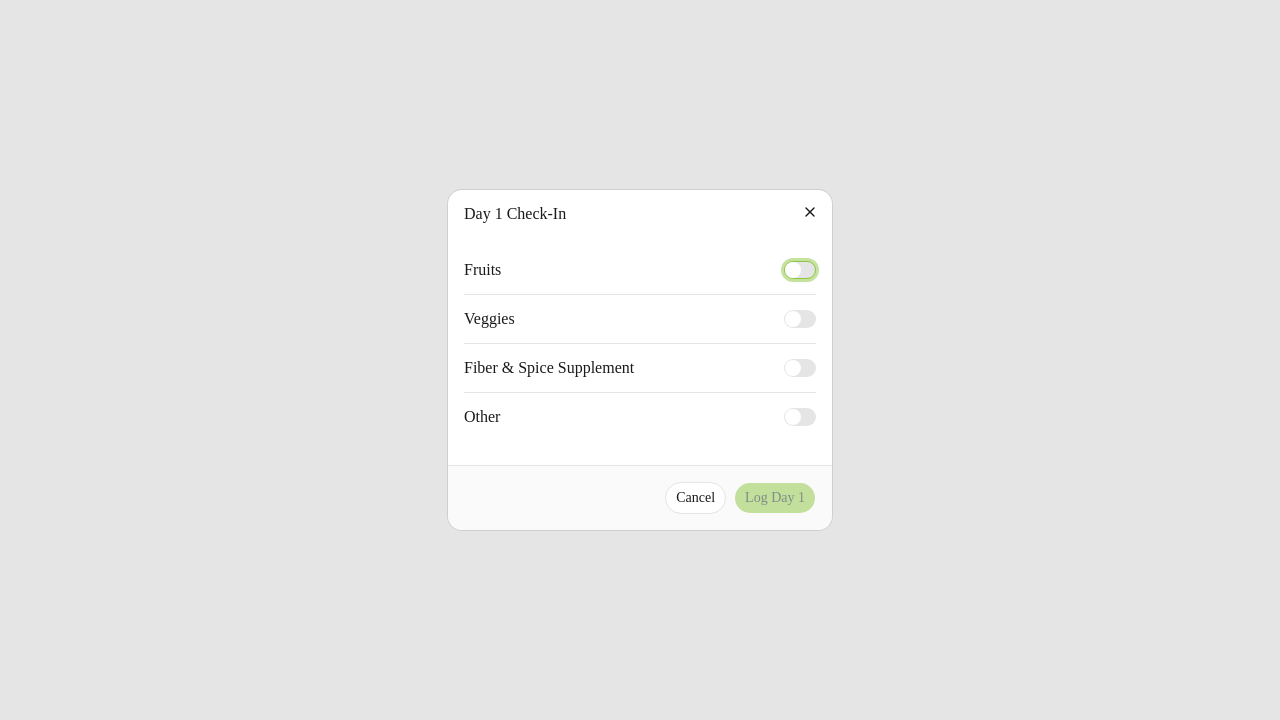
Test: CheckInDialog › submit is disabled until at least one toggle is on
The image size is (1280, 720).
Check: the button "Log Day 1" is disabled, box [734,482,816,514]
Step 1. Click the switch named "fruits" in the row of "Fruits" → (800, 270), box [784,261,816,279]
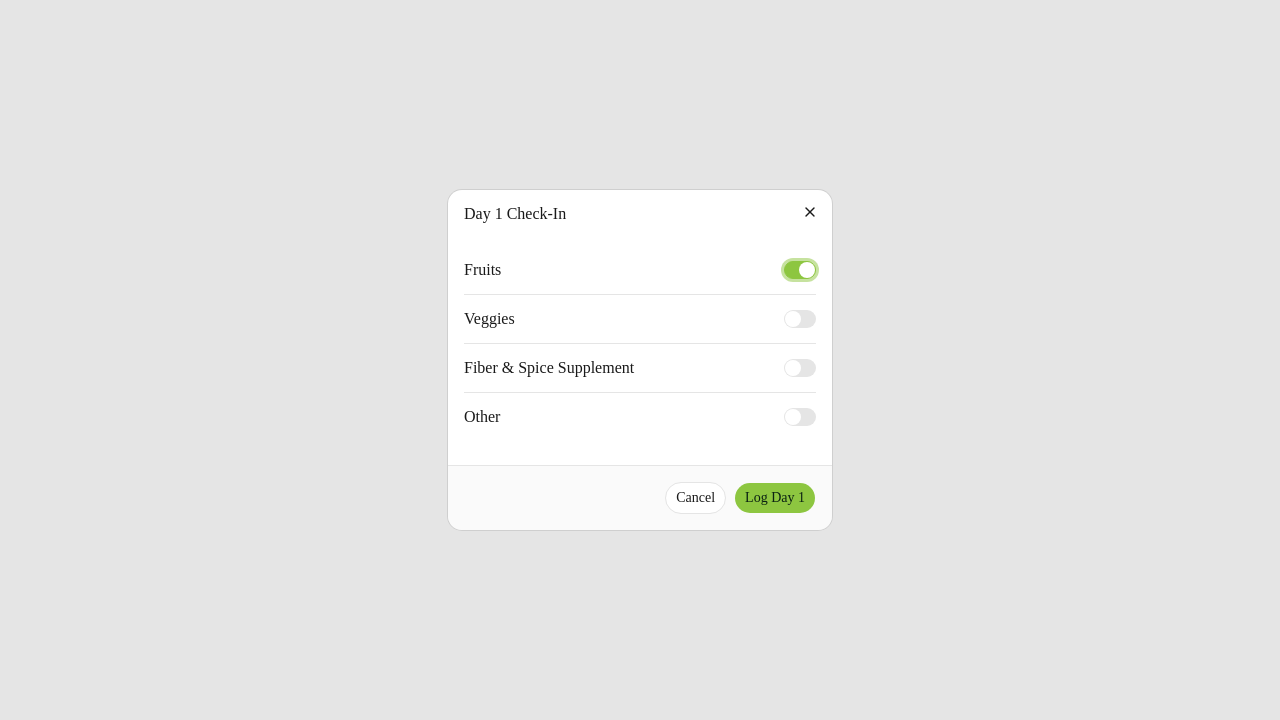
Check: the button "Log Day 1" is enabled, box [734,482,816,514]
